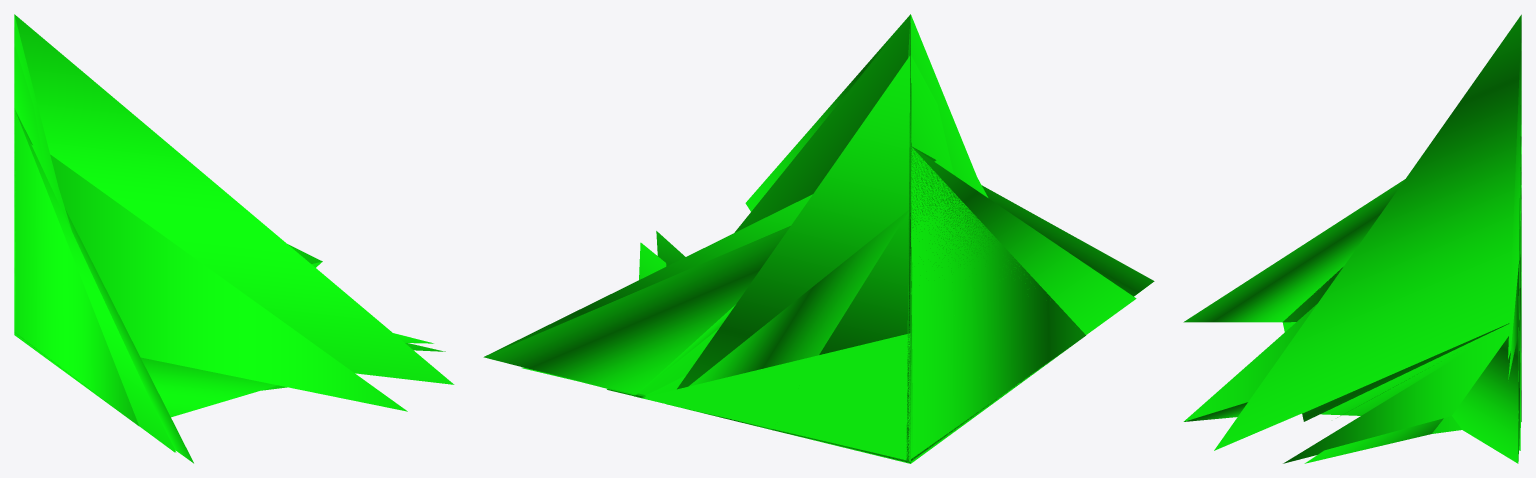
File: apple.fbx
The picture shows the model from 3 angles, left to right: view 1: azimuth 30°, elevation 25°; view 2: azimuth 150°, elevation 25°; view 3: azimuth 270°, elevation 25°; orthographic projection. The views are drawn at different scales.
Parts seen in each view (by area): view 1: apple; view 2: apple; view 3: apple.
Part boxes in pixels (x1,y1,x2,y2): apple: (14,14,454,463); apple: (483,14,1154,463); apple: (1183,14,1521,463).
Bounding box in the file's own units: 9814731 × 9814731 × 9814731.
